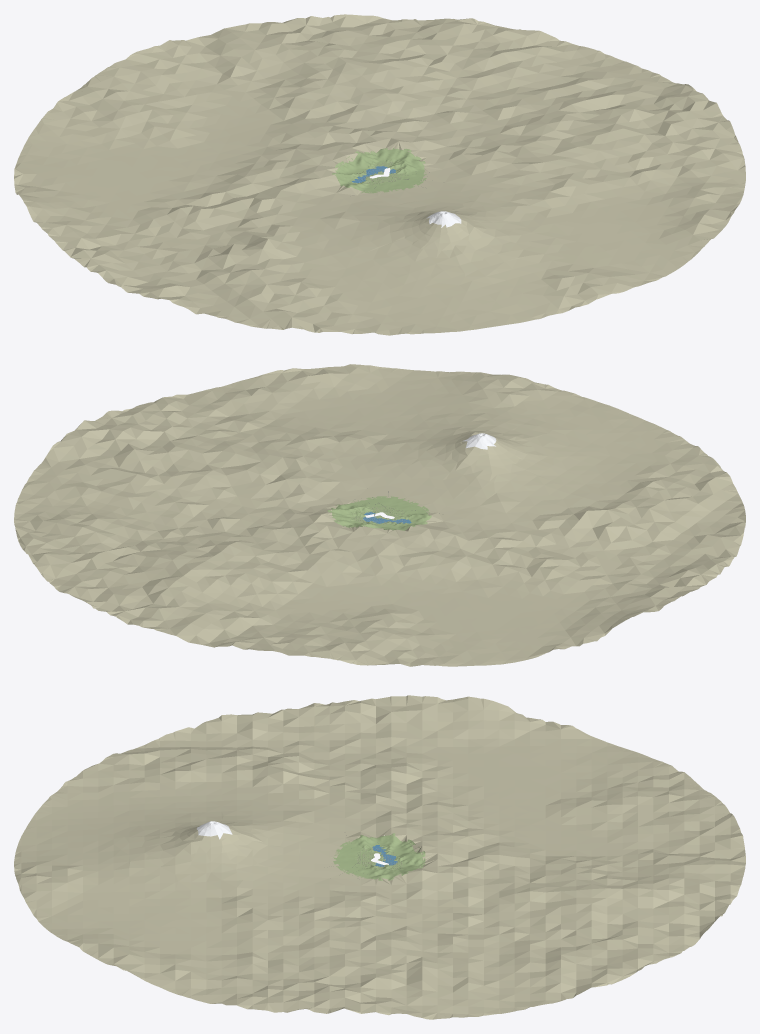
Rendered from backdrop.glb.
3 views of the same model, one above another, from view 1: azimuth 30°, elevation 25°; view 2: azimuth 150°, elevation 25°; view 3: azimuth 270°, elevation 25° (orthographic).
Parts seen in each view (by area): view 1: backdrop_horizon_land, backdrop_terrain_grass; view 2: backdrop_horizon_land, backdrop_terrain_grass; view 3: backdrop_horizon_land, backdrop_terrain_grass.
Part boxes in pixels (x1,y1,x2,y2): backdrop_horizon_land: (14,14,745,335); backdrop_terrain_grass: (332,148,426,193); backdrop_horizon_land: (14,364,745,666); backdrop_terrain_grass: (327,496,431,530); backdrop_horizon_land: (14,695,745,1019); backdrop_terrain_grass: (333,833,425,880).
Size of the model in its own units: 72222 by 3703 by 71208.
